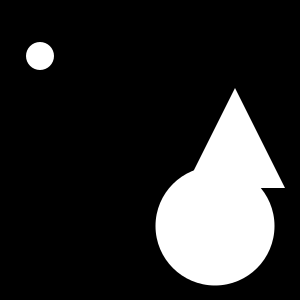rectangle: (156, 166, 274, 286), (26, 42, 54, 70)
triangle: (185, 88, 285, 188)
